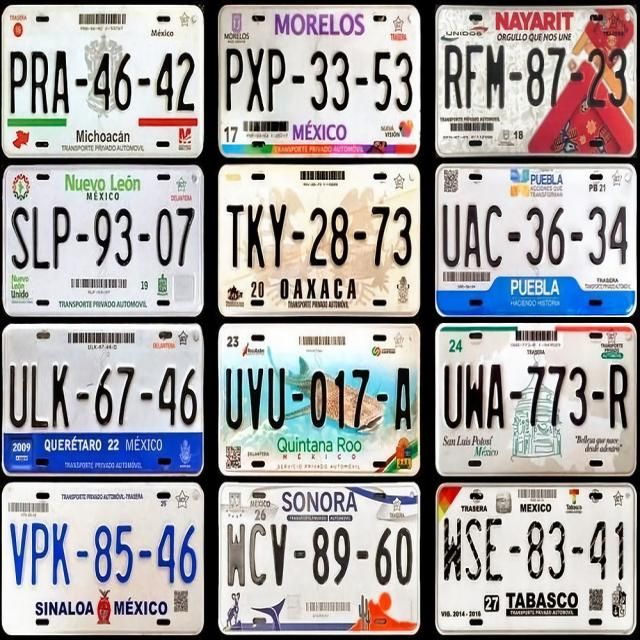placa: (218, 194, 418, 278), (3, 354, 202, 436), (436, 195, 636, 272), (2, 202, 200, 278), (438, 360, 638, 435), (438, 513, 637, 588), (439, 40, 635, 116), (3, 45, 202, 119), (219, 519, 418, 593), (219, 359, 420, 431), (2, 515, 202, 587), (220, 44, 420, 115)
